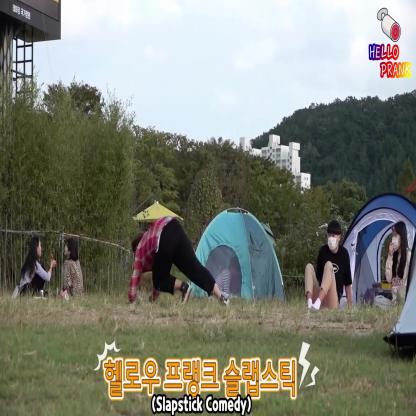Fall_Down: (128, 214, 231, 309)
